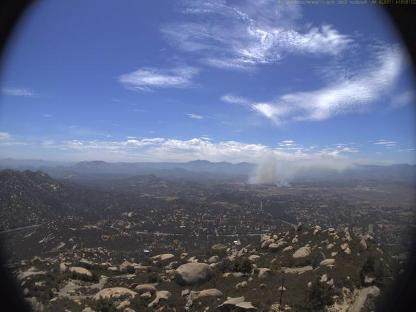smoke: (247, 138, 363, 192)
